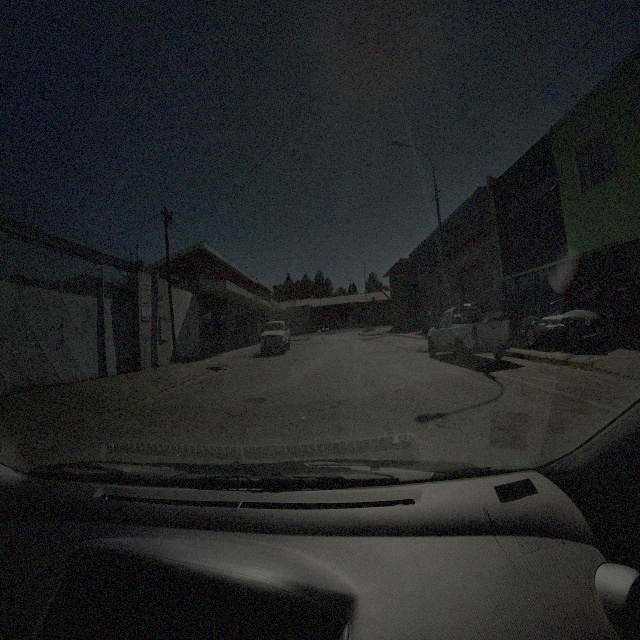pothole: (243, 396, 265, 405)
